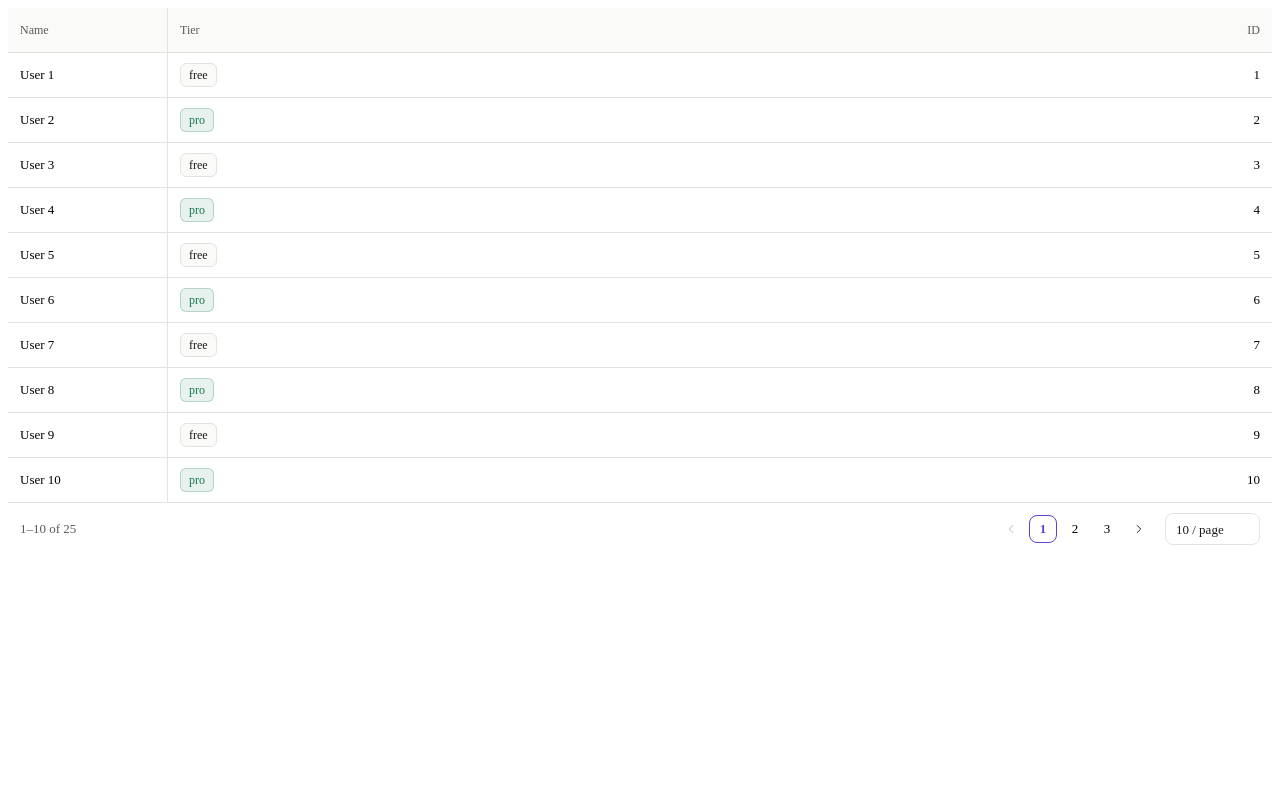
Test case: Table › turns pages and changes the page size
Click the button named "Page 3".
click(1107, 529)  # box [1093,515,1121,543]
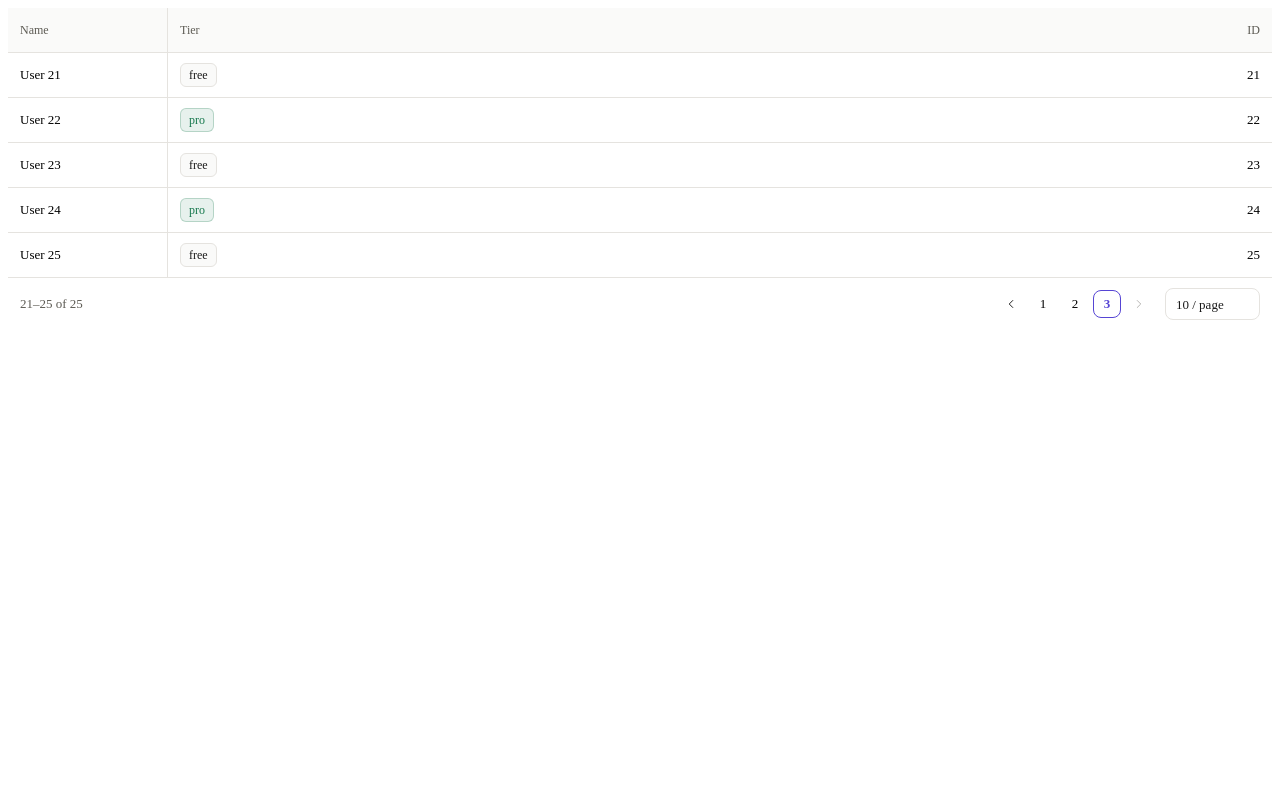
Select "50 / page" in the dropdown named "Rows per page" at coordinates (1212, 304), box [1165,288,1260,320]
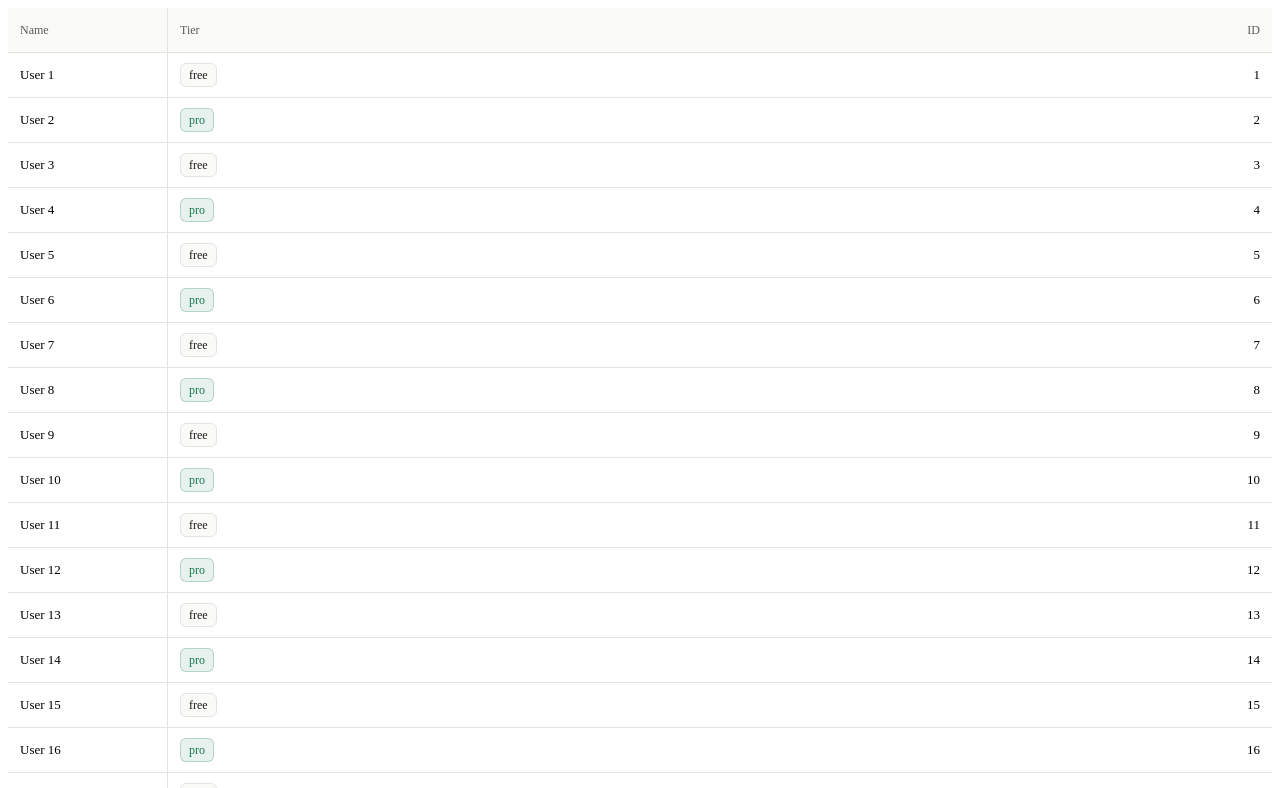
expect the navigation bar with class "kui-pagination" is gone: met
